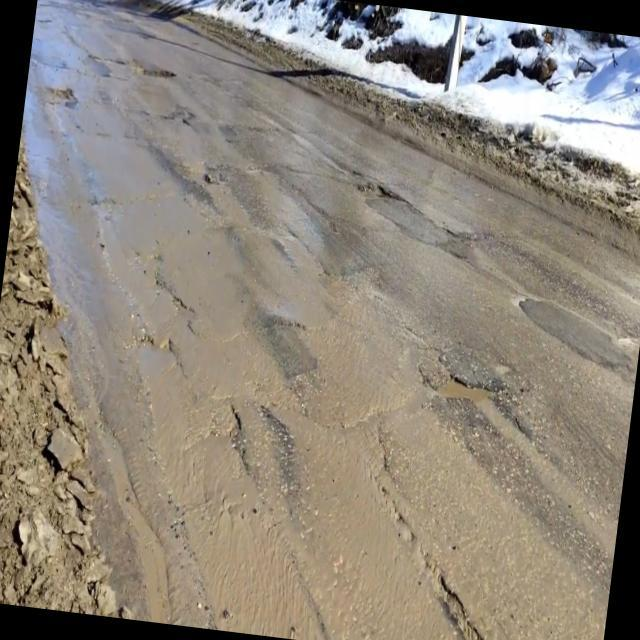Pothole: (424, 345, 504, 423), (358, 174, 402, 213), (130, 56, 180, 88), (46, 81, 76, 111)
